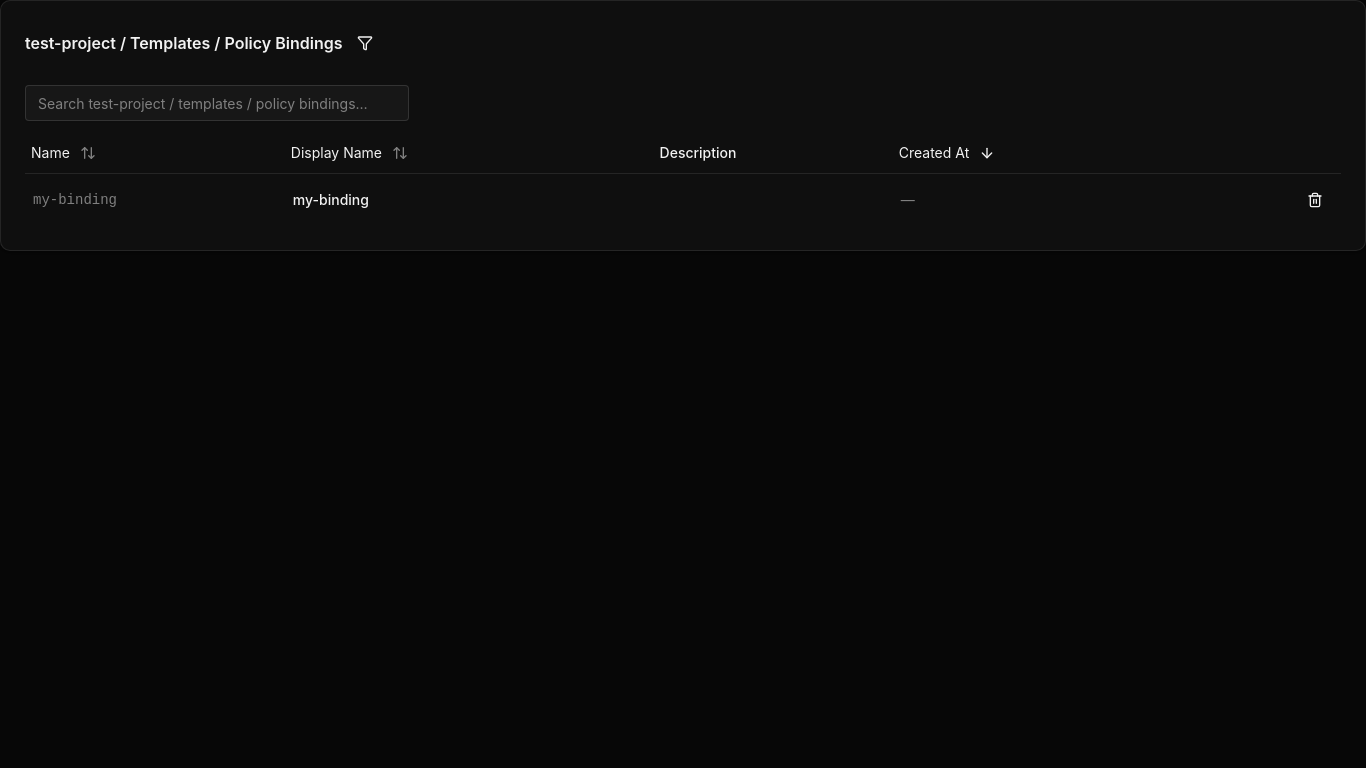
Scenario: TemplatePolicyBindingsIndexPage (HOL-1009) › delete button opens ConfirmDeleteDialog
Step 1. Click the button named "delete my-binding" → click(1315, 200), box top-left (1297, 182), bottom-right (1333, 218)
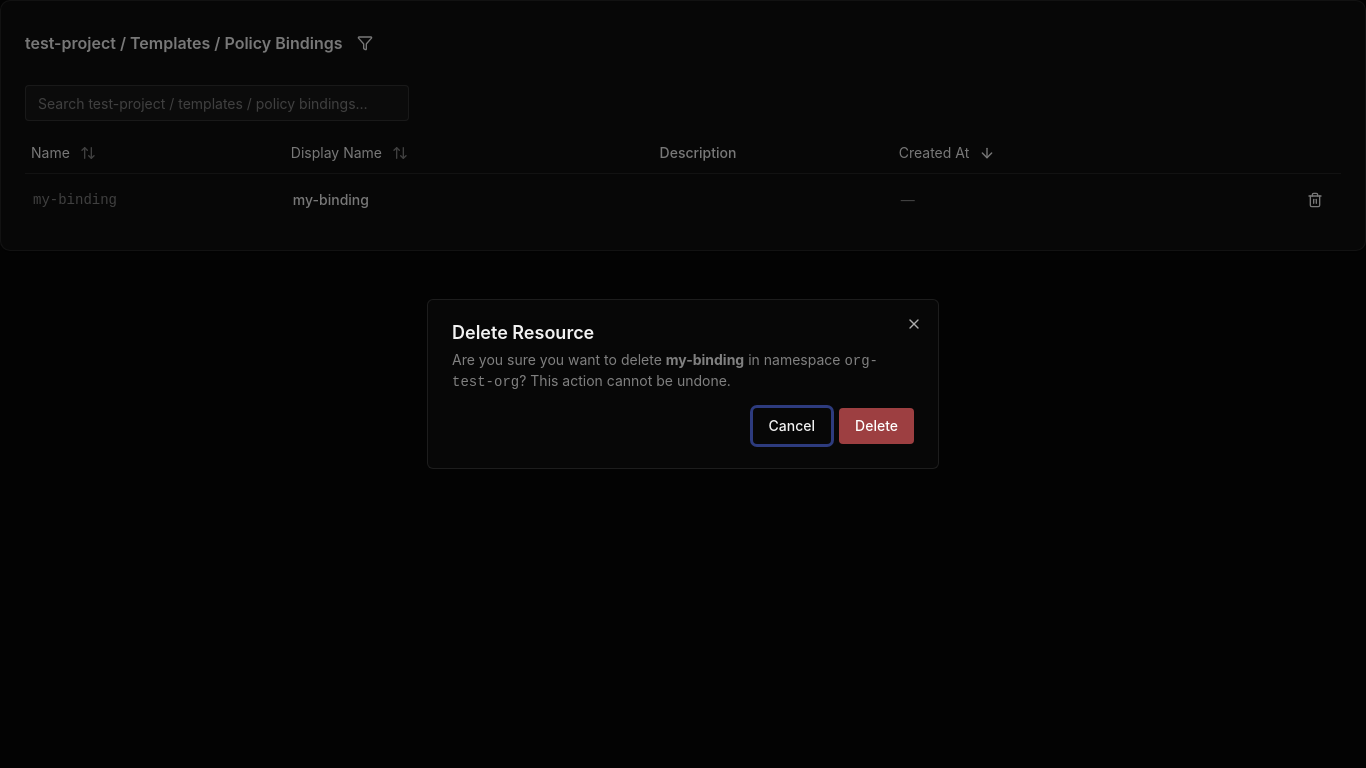
Now the dialog is shown, box top-left (427, 299), bottom-right (939, 469)
